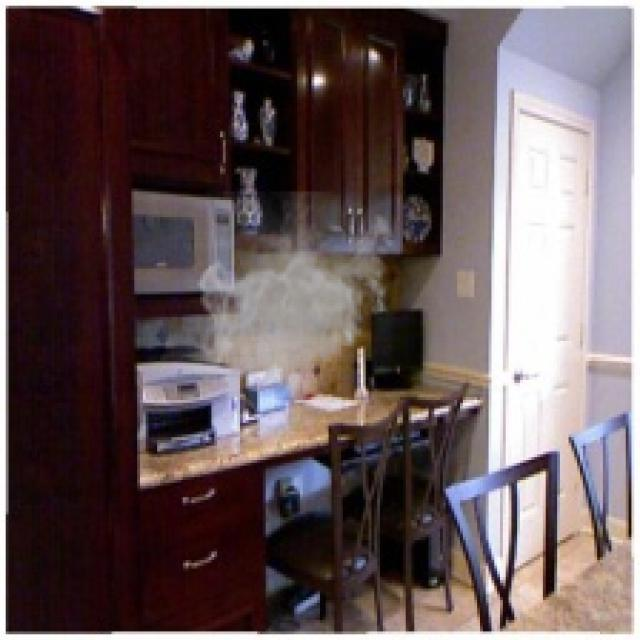Smoke: (194, 192, 400, 392)
